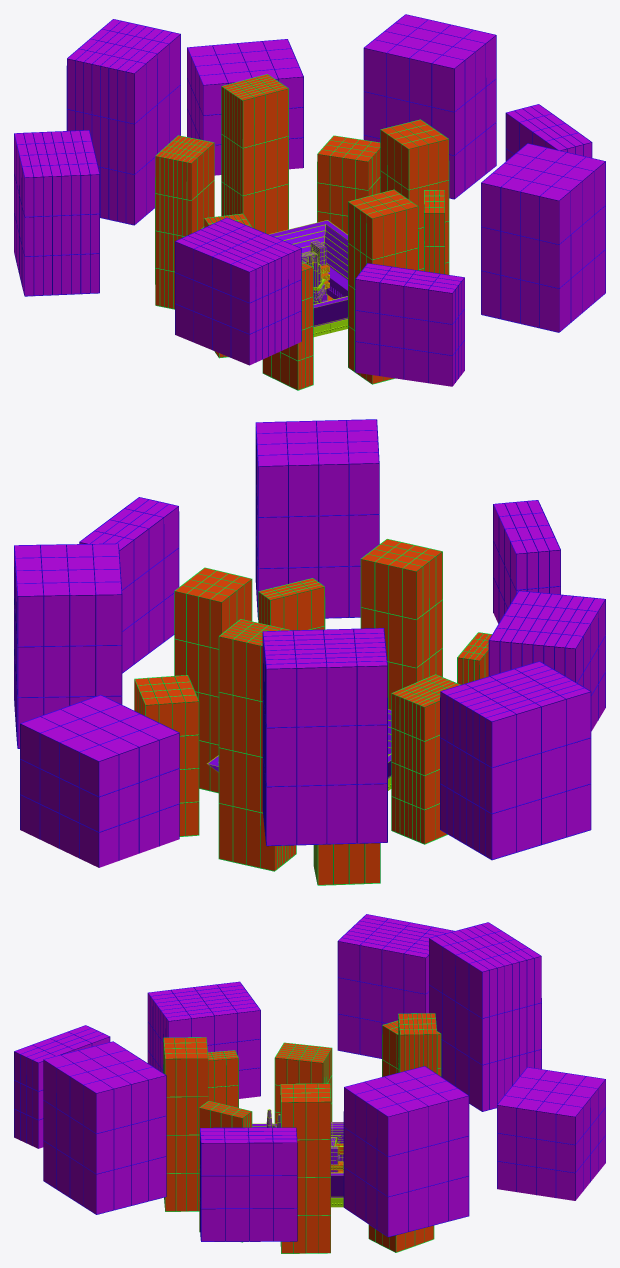
The model's file is eudababonia_location.fbx.
The picture shows the model from 3 angles, top to bottom: view 1: azimuth 30°, elevation 25°; view 2: azimuth 150°, elevation 25°; view 3: azimuth 270°, elevation 25°; orthographic projection. The views are drawn at different scales.
Parts seen in each view (by area): view 1: Cube.046, Cube.049, Cube.047, Cube.050, Cube.045, Cube.035; view 2: Cube.046, Cube.049, Cube.047, Cube.050; view 3: Cube.046, Cube.049, Cube.047, Cube.050, Cube.045, Cube.035.
Boxes of the visible parts, x1,y1,x2,y2 form: Cube.046: (14, 15, 605, 386); Cube.049: (155, 74, 448, 389); Cube.047: (14, 14, 605, 386); Cube.050: (155, 74, 449, 390); Cube.045: (269, 220, 347, 326); Cube.035: (269, 220, 347, 336); Cube.046: (14, 419, 605, 867); Cube.049: (134, 539, 491, 884); Cube.047: (14, 419, 605, 867); Cube.050: (134, 539, 491, 885); Cube.046: (14, 914, 605, 1241); Cube.049: (163, 1013, 440, 1253); Cube.047: (14, 914, 605, 1241); Cube.050: (163, 1013, 441, 1253); Cube.045: (252, 1110, 343, 1197); Cube.035: (252, 1109, 343, 1207).
Size of the model in its own units: 5833 by 2637 by 6710.
